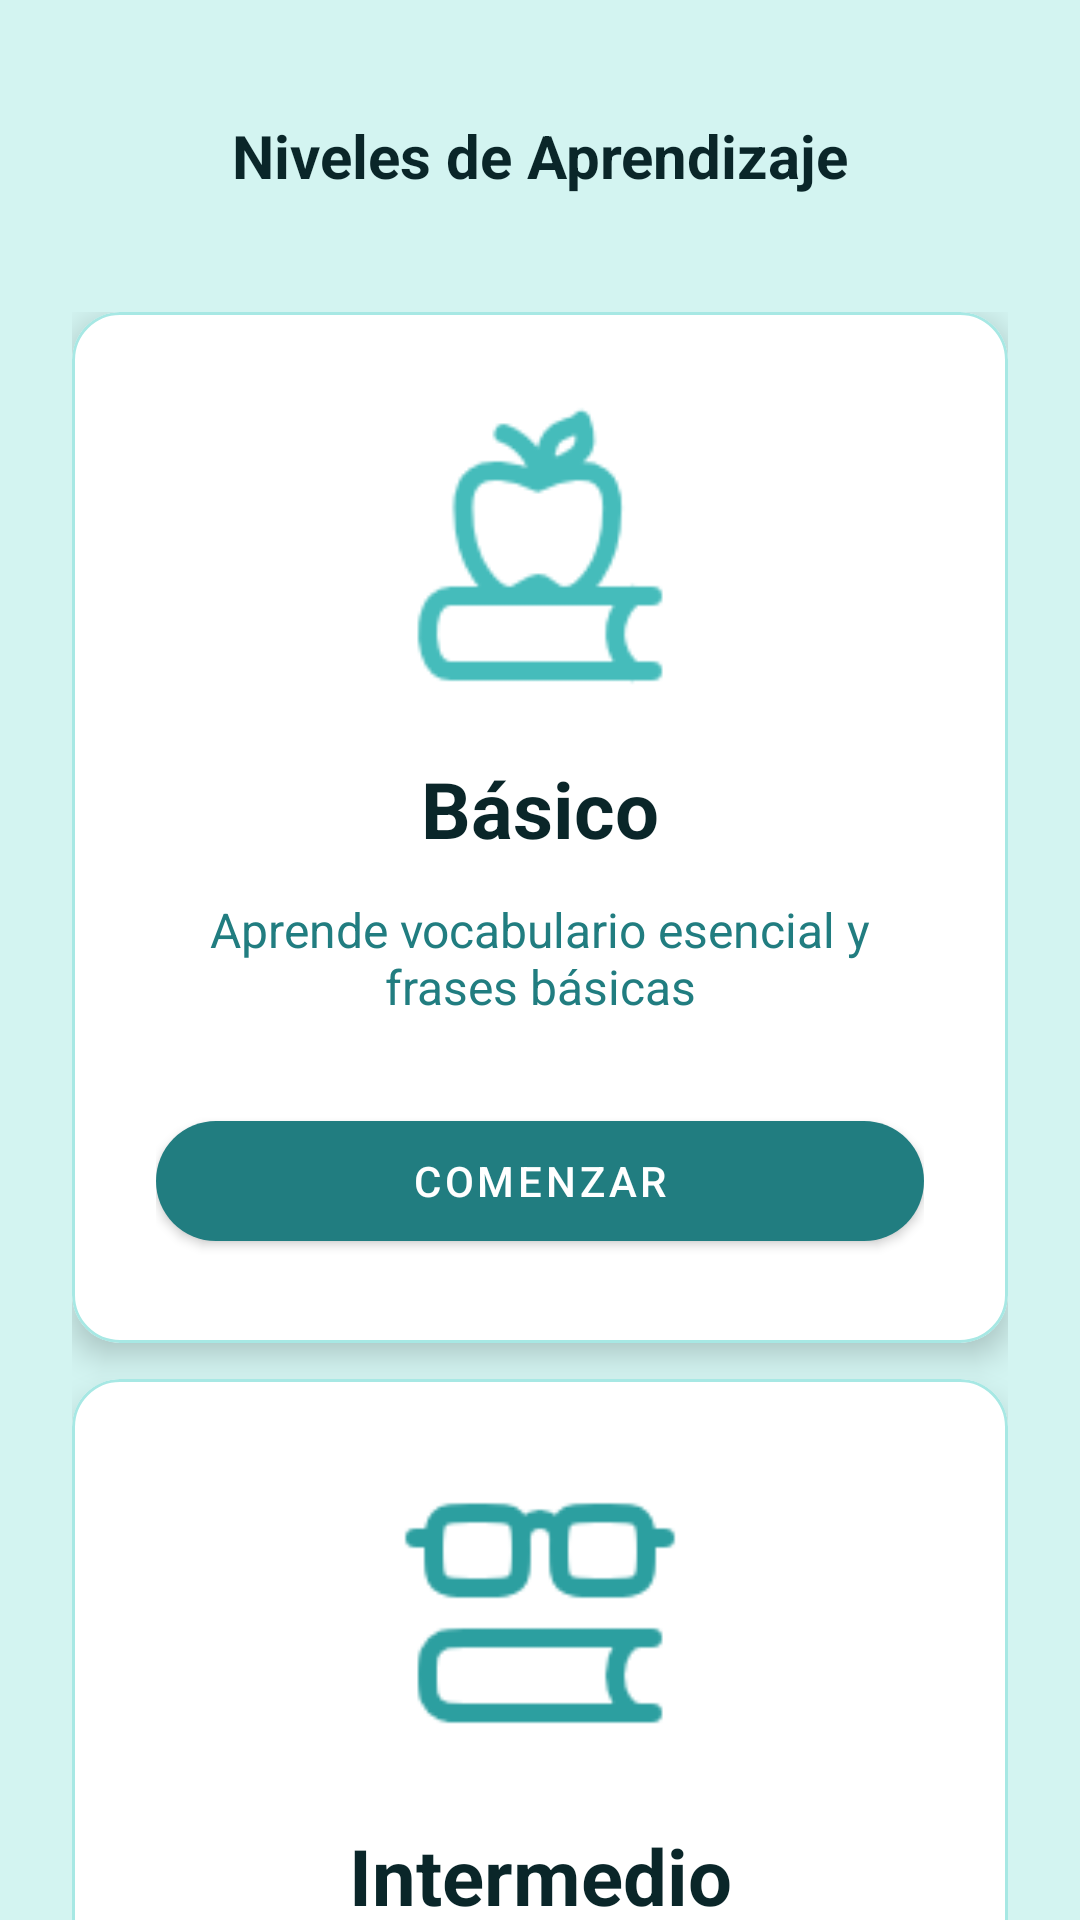

Point at icon controls on the screen. Image size 1080w x 1920h, points as (x,y).
level basic: (540,546)
level intermediate: (540,1613)
